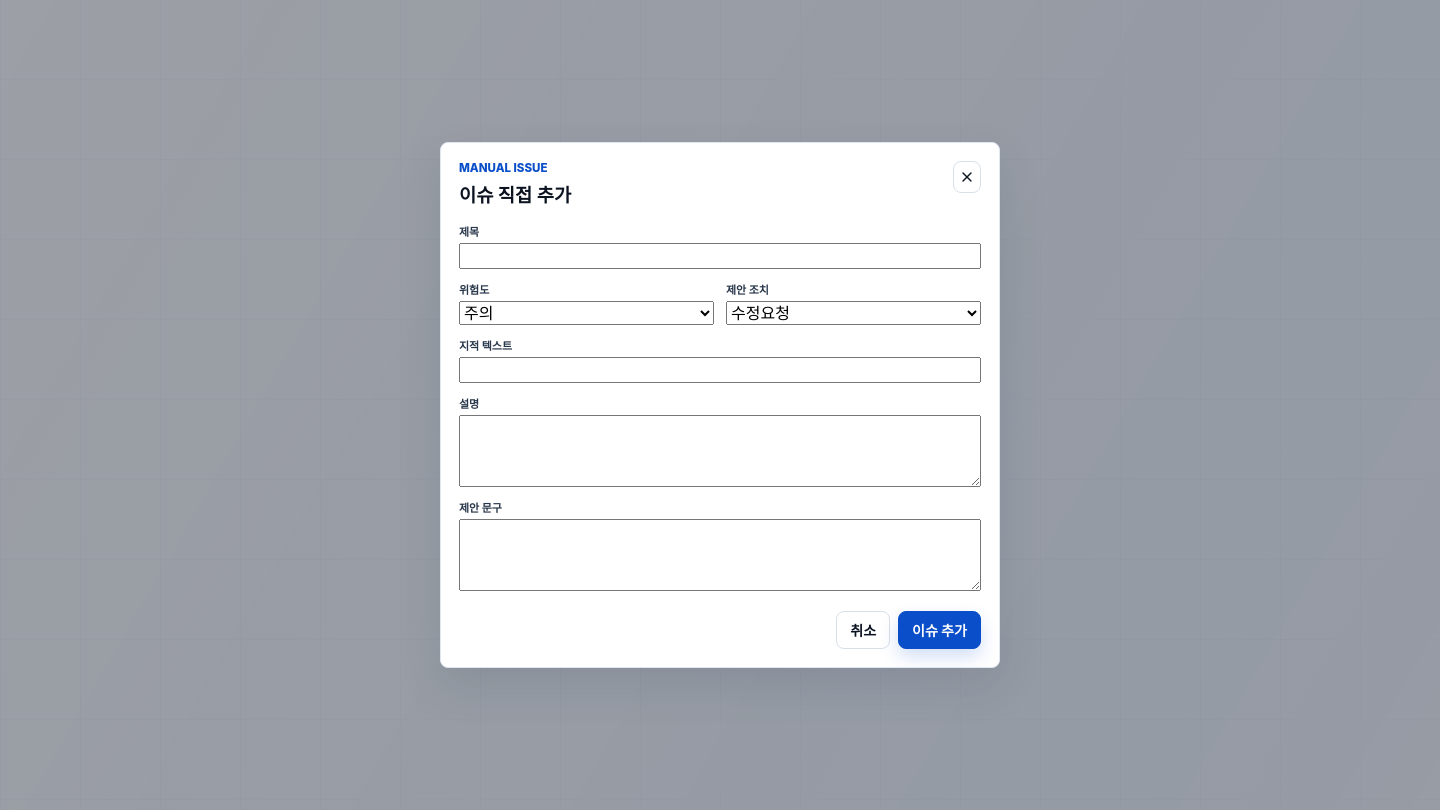
Test: ManualIssueForm › requires a title before submitting
Click the button "이슈 추가".
click(940, 630)  # box [898,611,981,649]
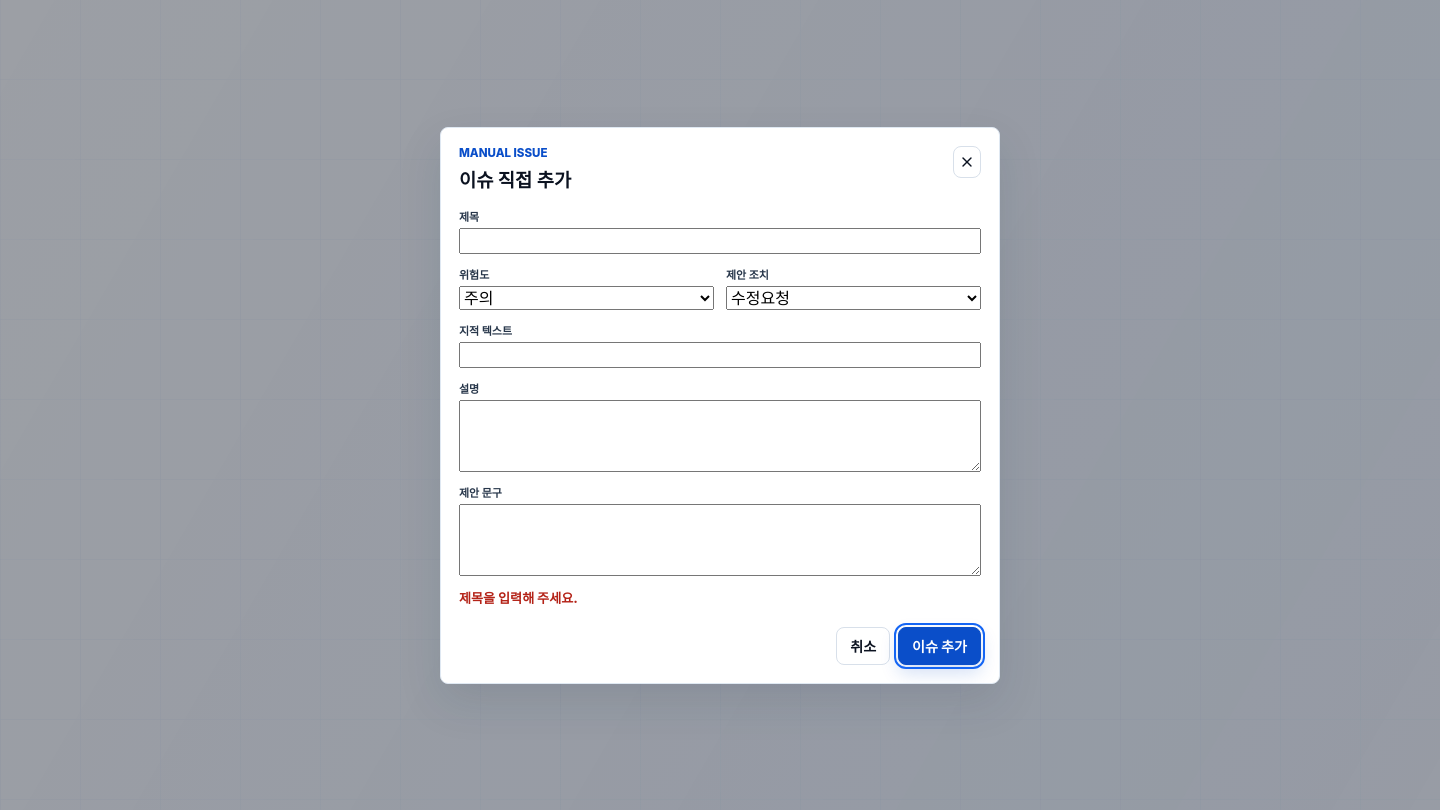
Expected: the text "제목을 입력해 주세요." is shown, [459,590,578,606]
